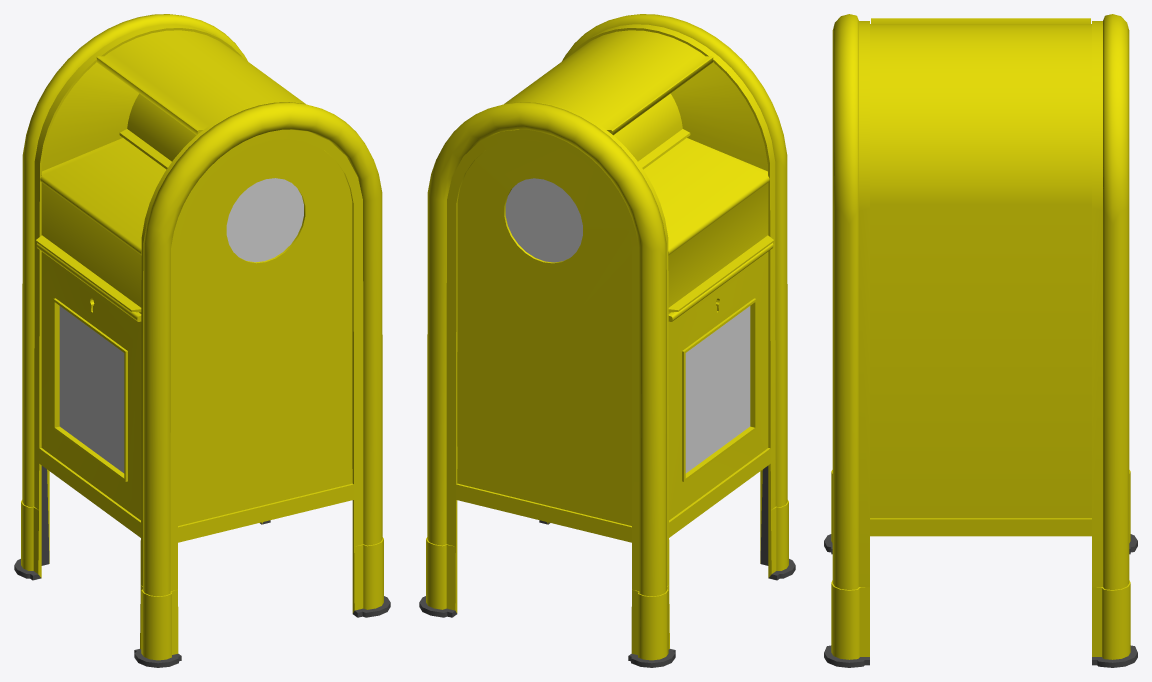
Rendered from Postbox2.fbx.
3 renders of one model, left to right at view 1: azimuth 30°, elevation 25°; view 2: azimuth 150°, elevation 25°; view 3: azimuth 270°, elevation 25°, orthographic. The views are drawn at different scales.
Visible parts, largest first — view 1: PostBox2; view 2: PostBox2; view 3: PostBox2.
Part boxes in pixels (left/top/right/bottom): PostBox2: left=14, top=14, right=390, bottom=667; PostBox2: left=419, top=14, right=795, bottom=667; PostBox2: left=824, top=14, right=1137, bottom=667.
Bounding box in the file's own units: 67.95 × 137 × 67.93.
